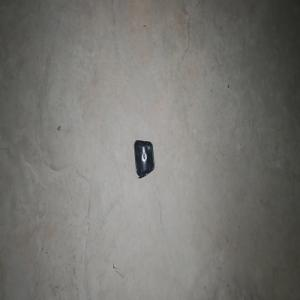LuggagePart: (133, 139, 154, 179)
